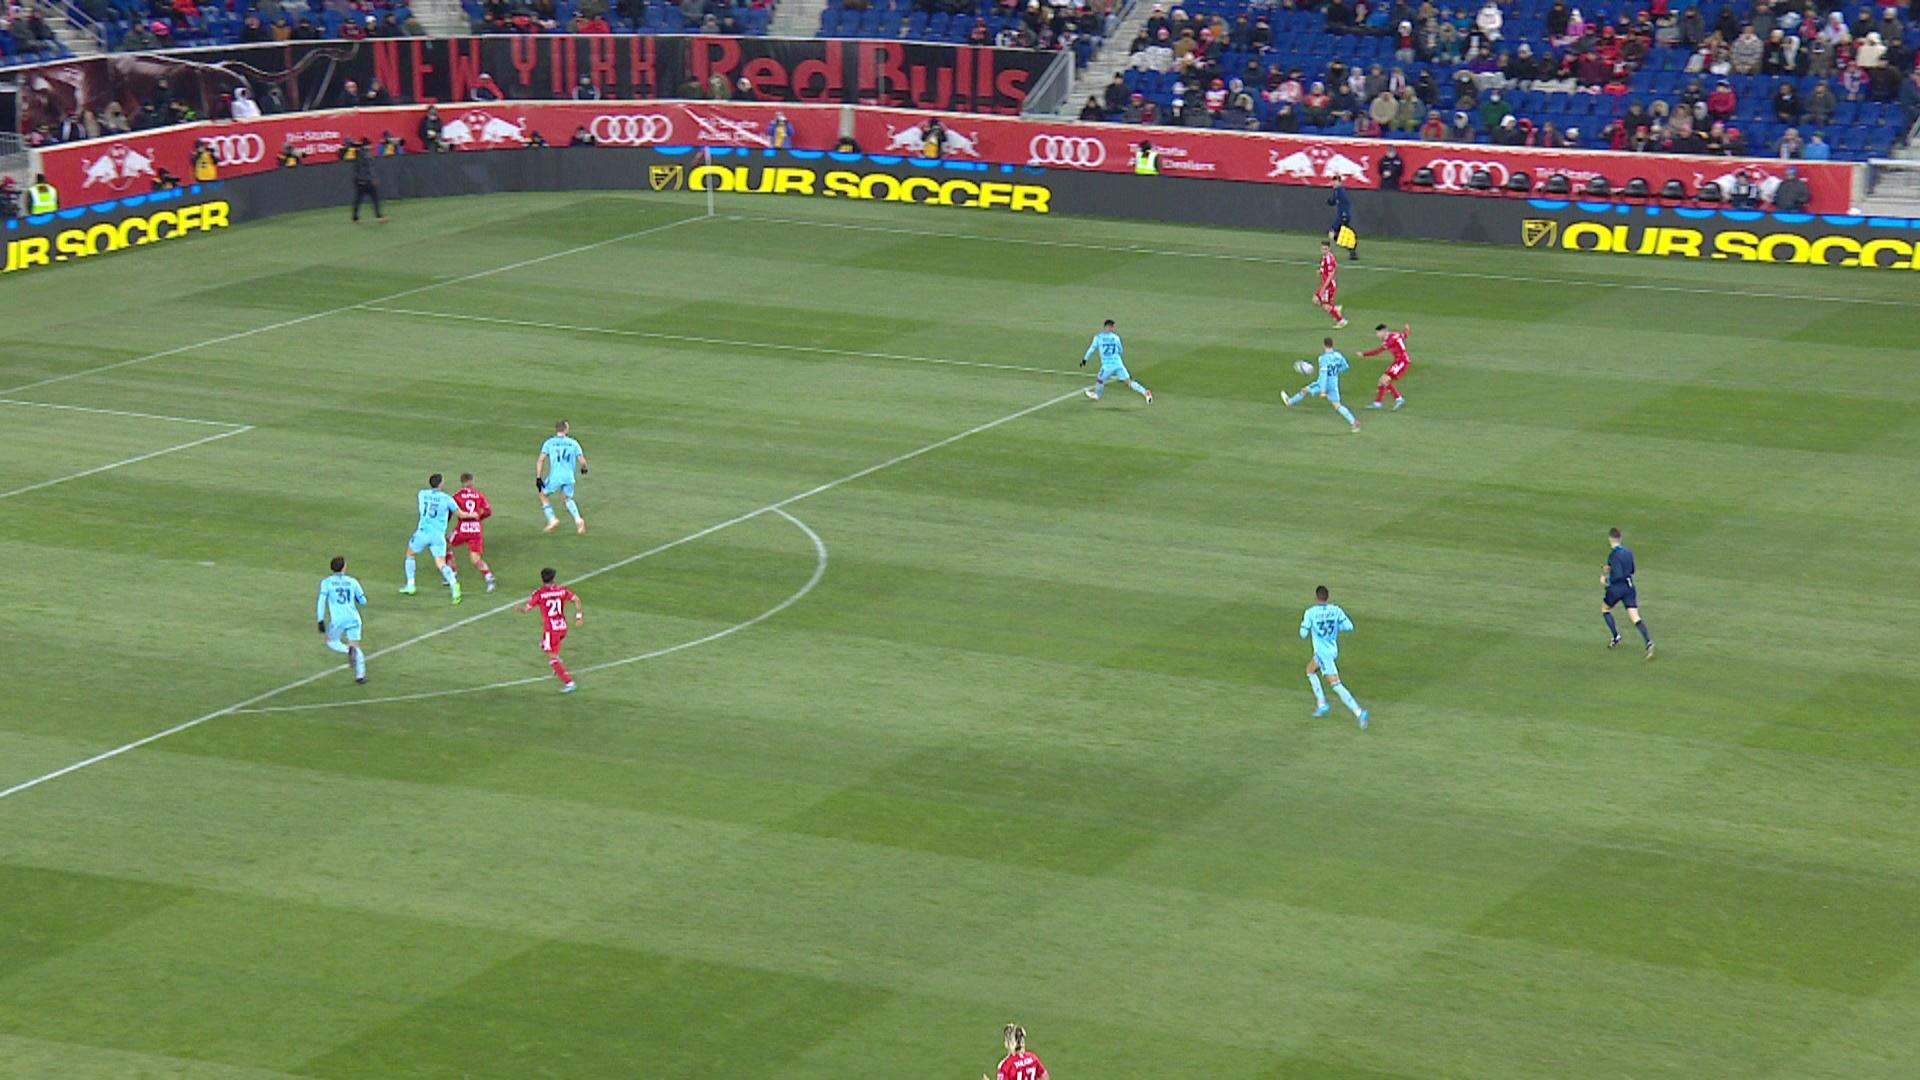football: (1294, 360, 1315, 376)
